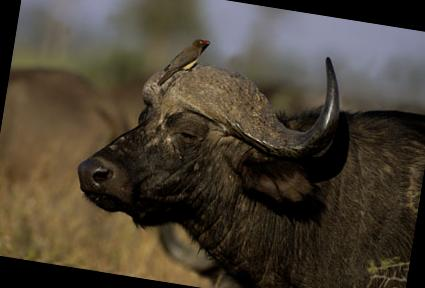Buffalo: (72, 0, 425, 288)
